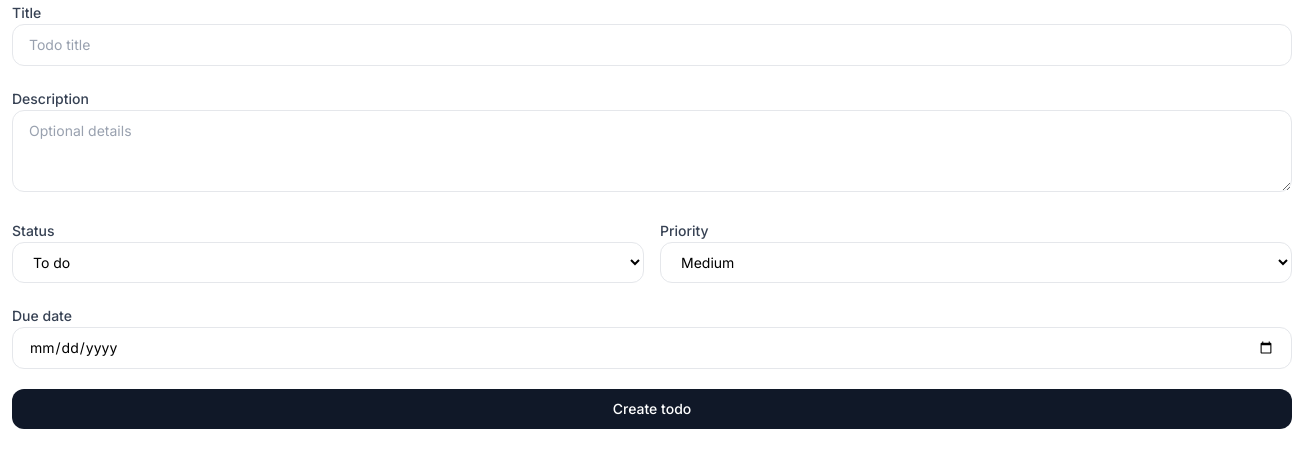
Test: TodoForm › shows a validation error and does not submit when title is empty
Click the button "Create todo": (652, 409) x1=12 y1=389 x2=1292 y2=429
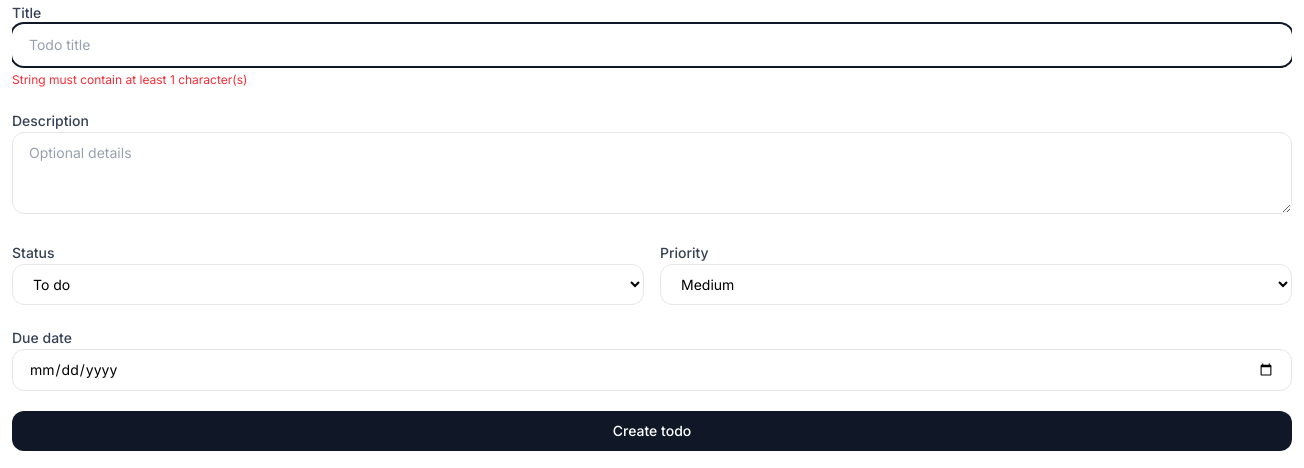
Check: the text "String must contain at least 1 character(s)" is shown, box x1=12 y1=72 x2=247 y2=87
